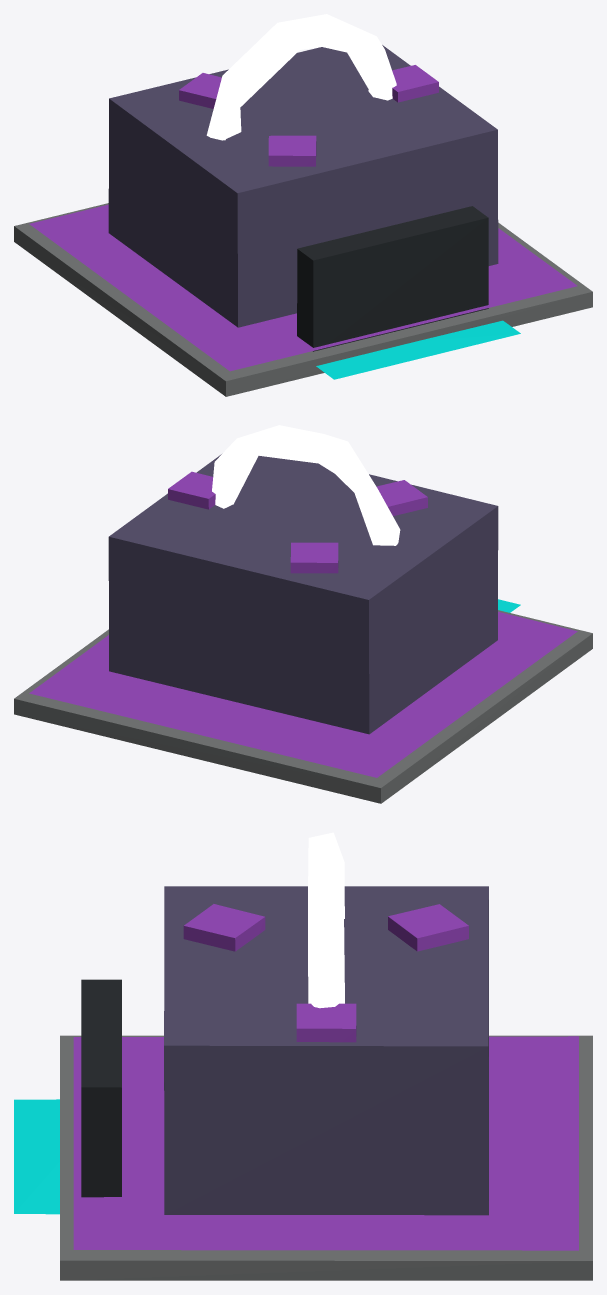
The model's file is SM_Chronolegion_CH_WarFactory_LOD3.fbx.
The picture shows the model from 3 angles, top to bottom: view 1: azimuth 30°, elevation 25°; view 2: azimuth 150°, elevation 25°; view 3: azimuth 270°, elevation 25°; orthographic projection. The views are drawn at different scales.
Parts seen in each view (by area): view 1: LOD03_SM_Chronolegion_CH_WarFactory; view 2: LOD03_SM_Chronolegion_CH_WarFactory; view 3: LOD03_SM_Chronolegion_CH_WarFactory.
Boxes of the visible parts, left/top/right/bottom form: LOD03_SM_Chronolegion_CH_WarFactory: left=14, top=14, right=592, bottom=396; LOD03_SM_Chronolegion_CH_WarFactory: left=14, top=425, right=592, bottom=803; LOD03_SM_Chronolegion_CH_WarFactory: left=14, top=832, right=592, bottom=1280.
Size of the model in its own units: 797 by 865 by 530.
